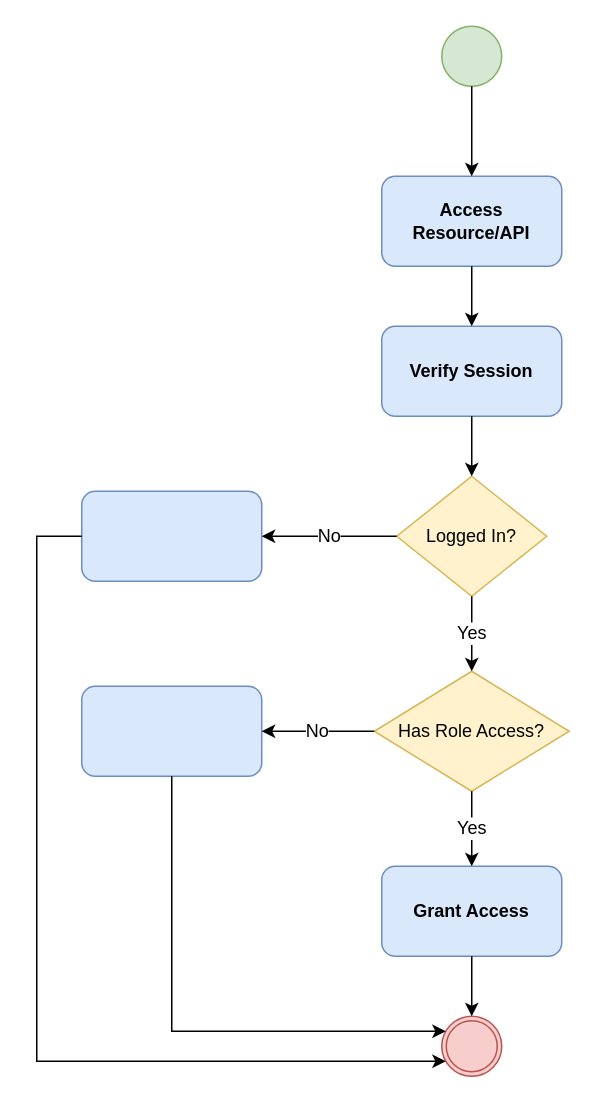
The diagram is 596 pixels wide and 1103 high, and some of its shapes have lost their labels. Here are the shapes that lost their labels. From the top down, the box of each, then its label:
(80, 490, 262, 581): Redirect to Login
(80, 685, 262, 776): Access Denied
